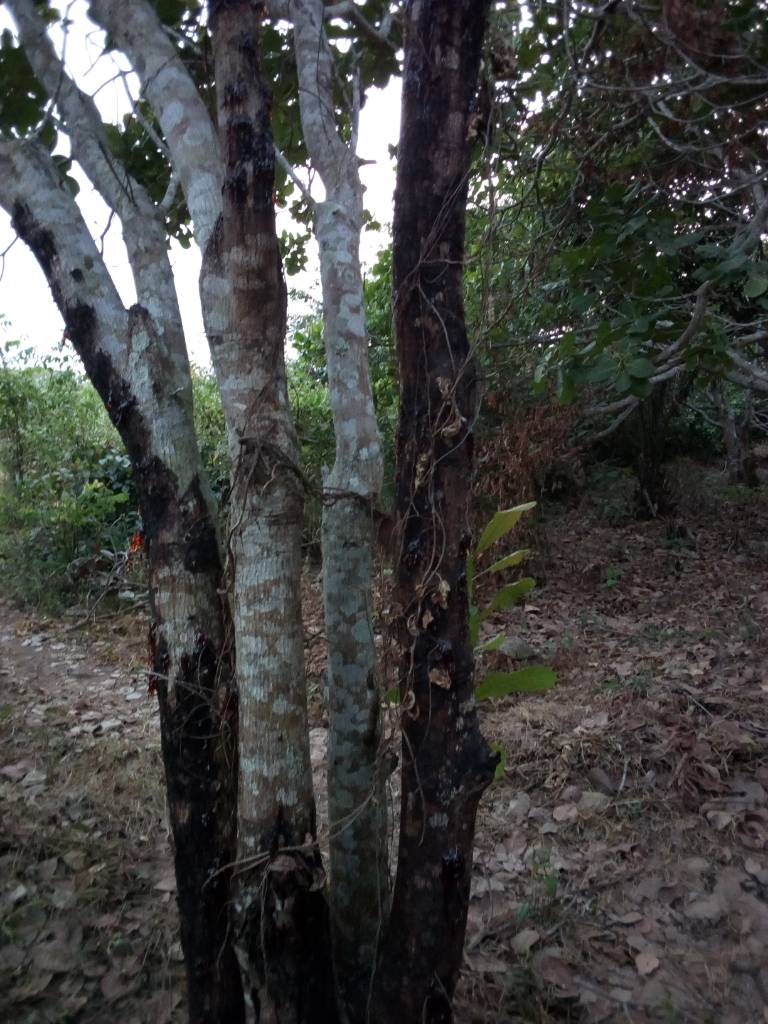Gommose: (155, 650, 240, 1024), (413, 535, 477, 1021), (221, 42, 279, 217)
